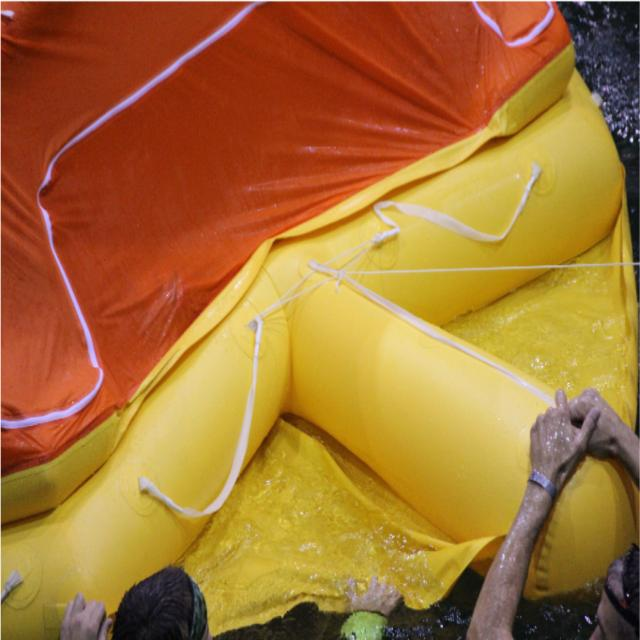Multi-person_life_raft: (1, 1, 639, 638)
